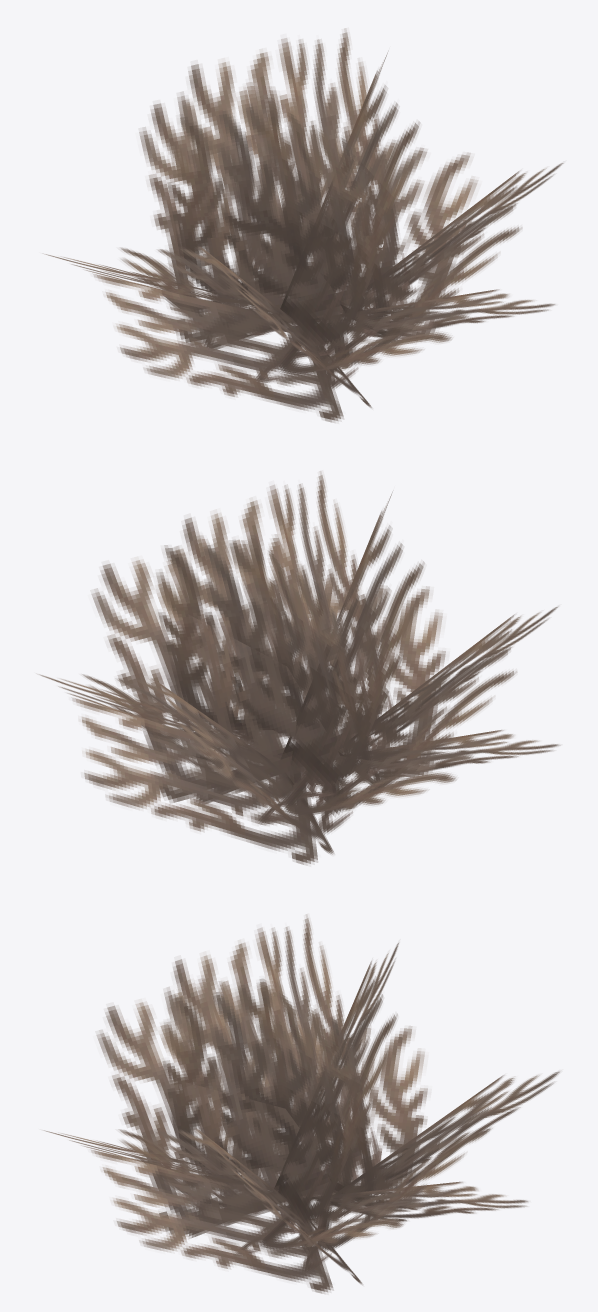
The picture shows the model from 3 angles, top to bottom: view 1: azimuth 30°, elevation 25°; view 2: azimuth 150°, elevation 25°; view 3: azimuth 270°, elevation 25°; orthographic projection. The views are drawn at different scales.
Visible parts, largest first — view 1: tumbleweed; view 2: tumbleweed; view 3: tumbleweed.
Part boxes in pixels (box(x1,y1,x2,y2)): tumbleweed: box(43, 28, 563, 422); tumbleweed: box(38, 471, 560, 865); tumbleweed: box(43, 914, 560, 1293).
Bounding box in the file's own units: 129 × 79.15 × 135.
Materials: 1 (1 with a texture image).
